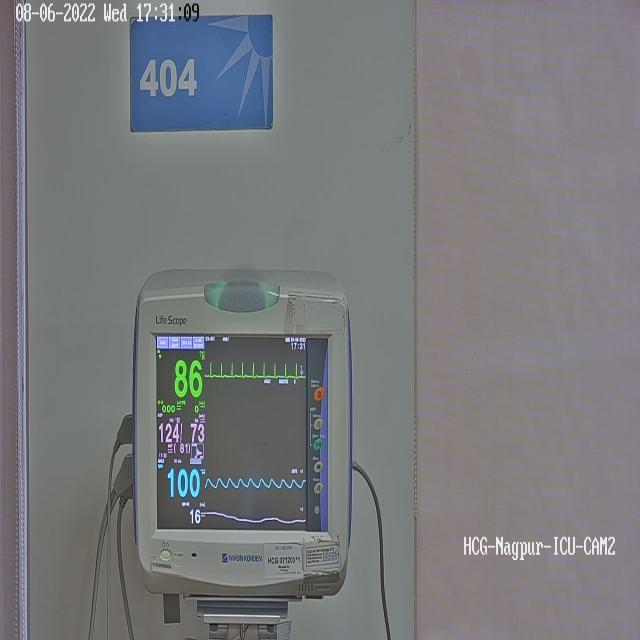Monitor: (130, 267, 354, 601)
